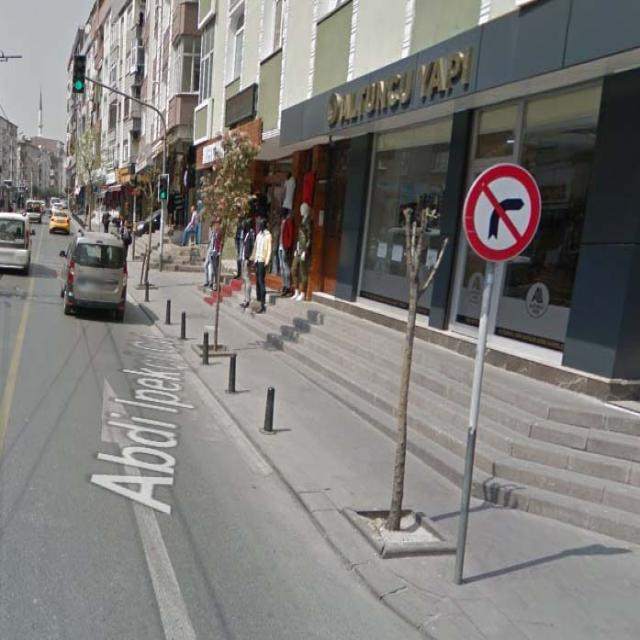sagadonulmez: (465, 164, 541, 261)
yesil: (72, 56, 85, 92), (158, 174, 168, 202)
